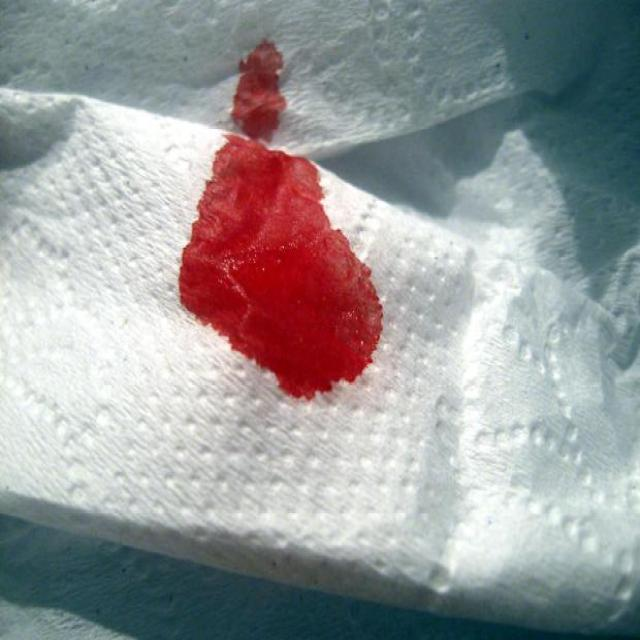flood: (182, 138, 390, 400)
